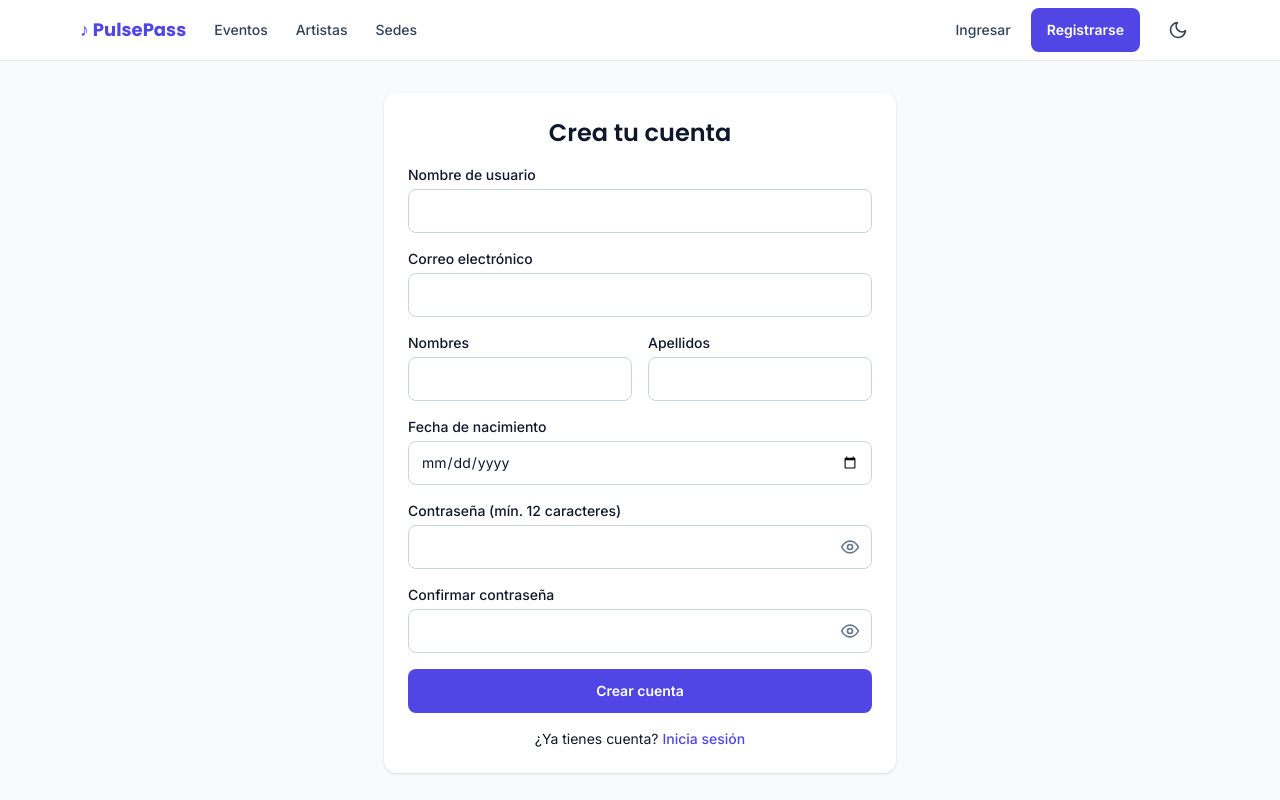
Scenario: Autenticación › TEST-FE-AUTH-004: registro con contraseña corta → error y 0 peticiones
expect the heading "Crea tu cuenta" is shown: met, box x1=549 y1=116 x2=731 y2=149
In the field labelled "Nombre de usuario": (640, 211) x1=408 y1=189 x2=872 y2=233, type "nuevo.usuario"
In the field labelled "Correo electrónico": (640, 295) x1=408 y1=273 x2=872 y2=317, type "nuevo@pulsepass.test"
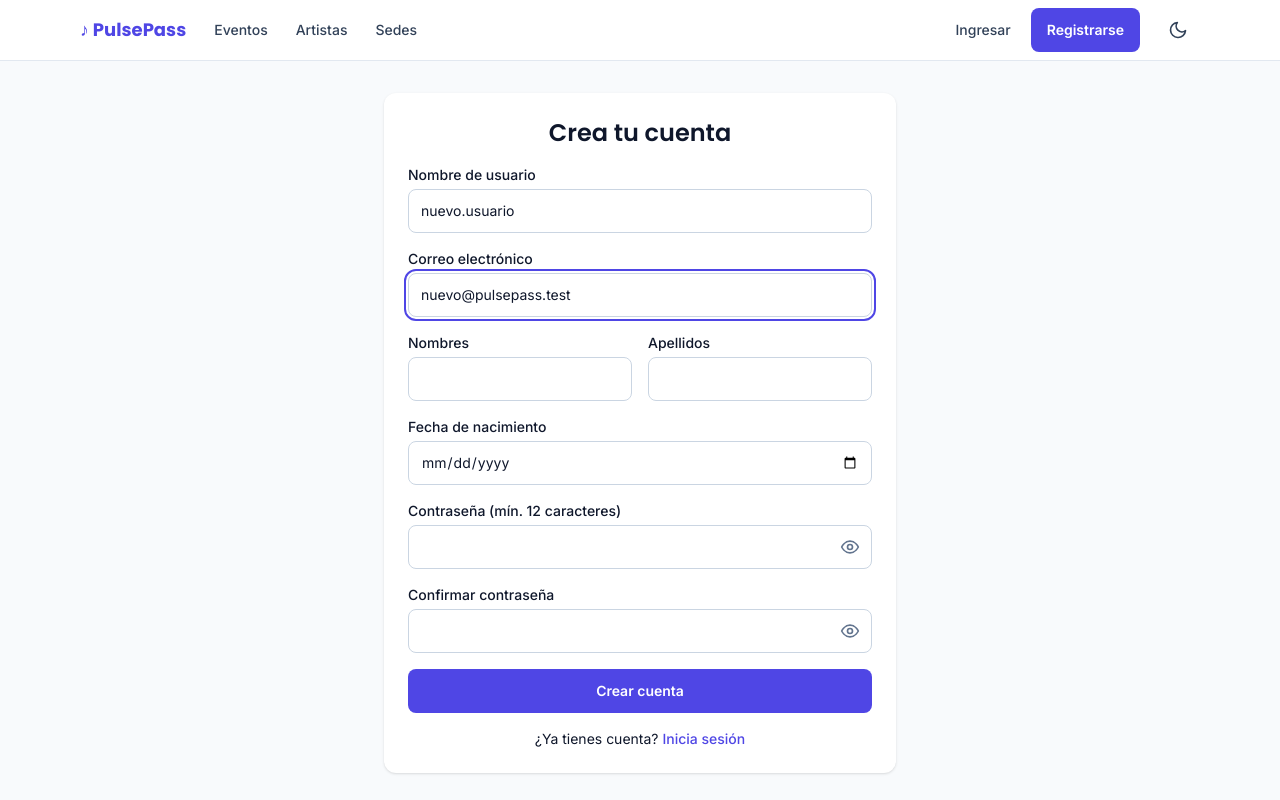
In the field labelled "Nombres": (520, 379) x1=408 y1=357 x2=632 y2=401, type "Nuevo"
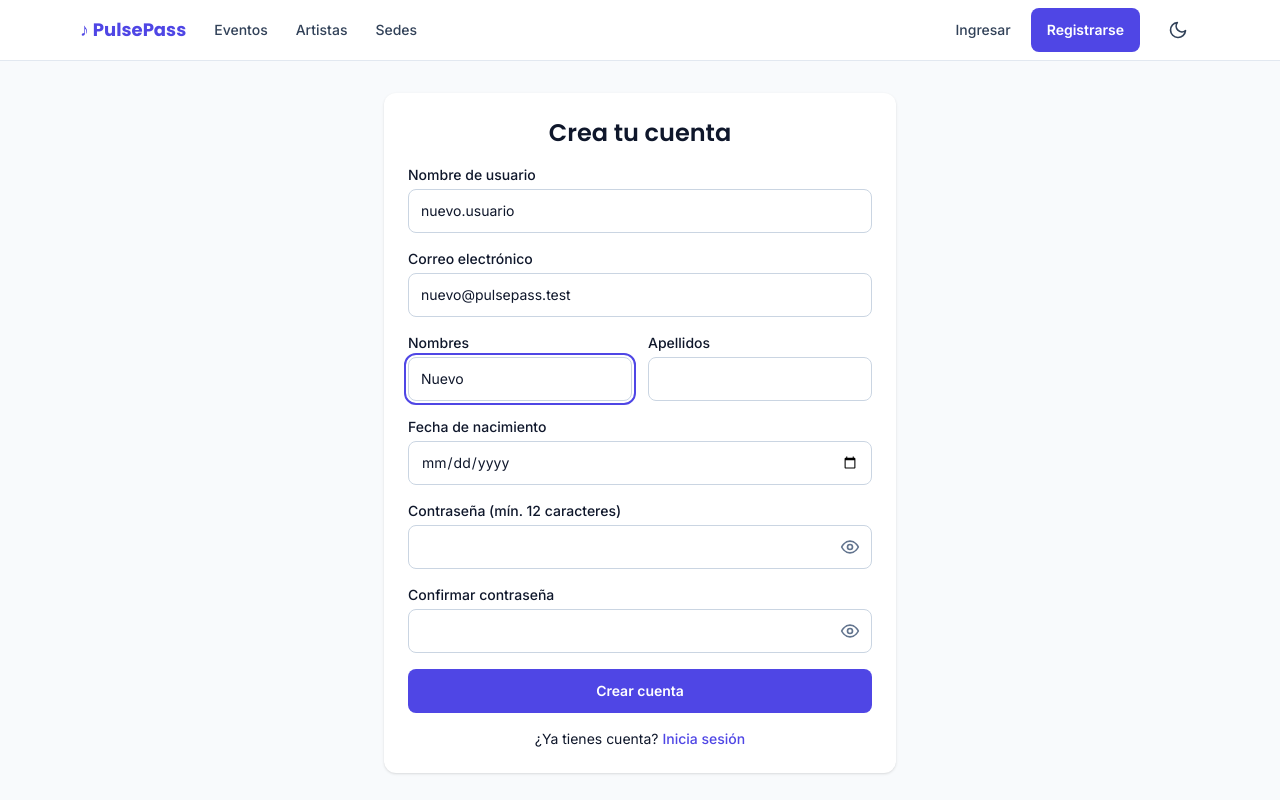
In the field labelled "Apellidos": (760, 379) x1=648 y1=357 x2=872 y2=401, type "Usuario"
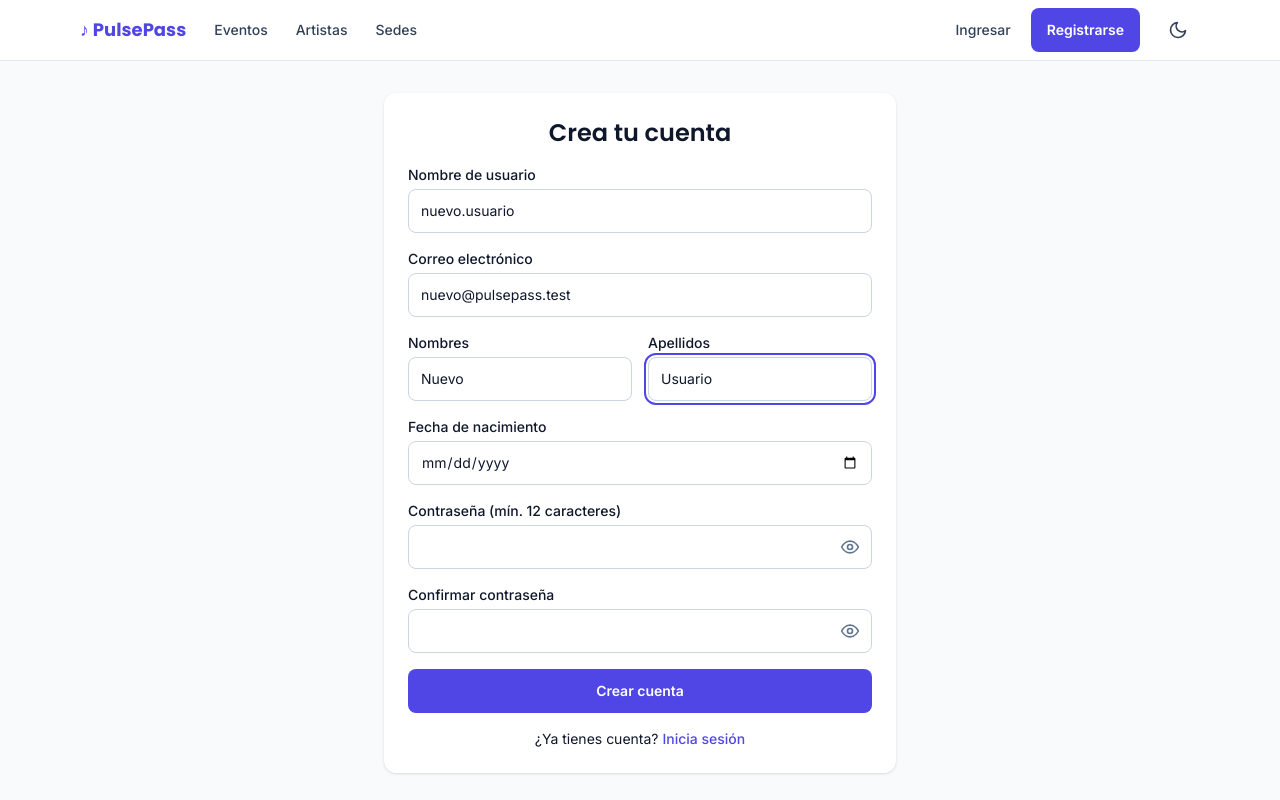
In the date field labelled "Fecha de nacimiento": (640, 463) x1=408 y1=441 x2=872 y2=485, type "1998-04-12"
In the password field labelled "Contraseña (mín. 12 caracteres)": (640, 547) x1=408 y1=525 x2=872 y2=569, type "corta123"
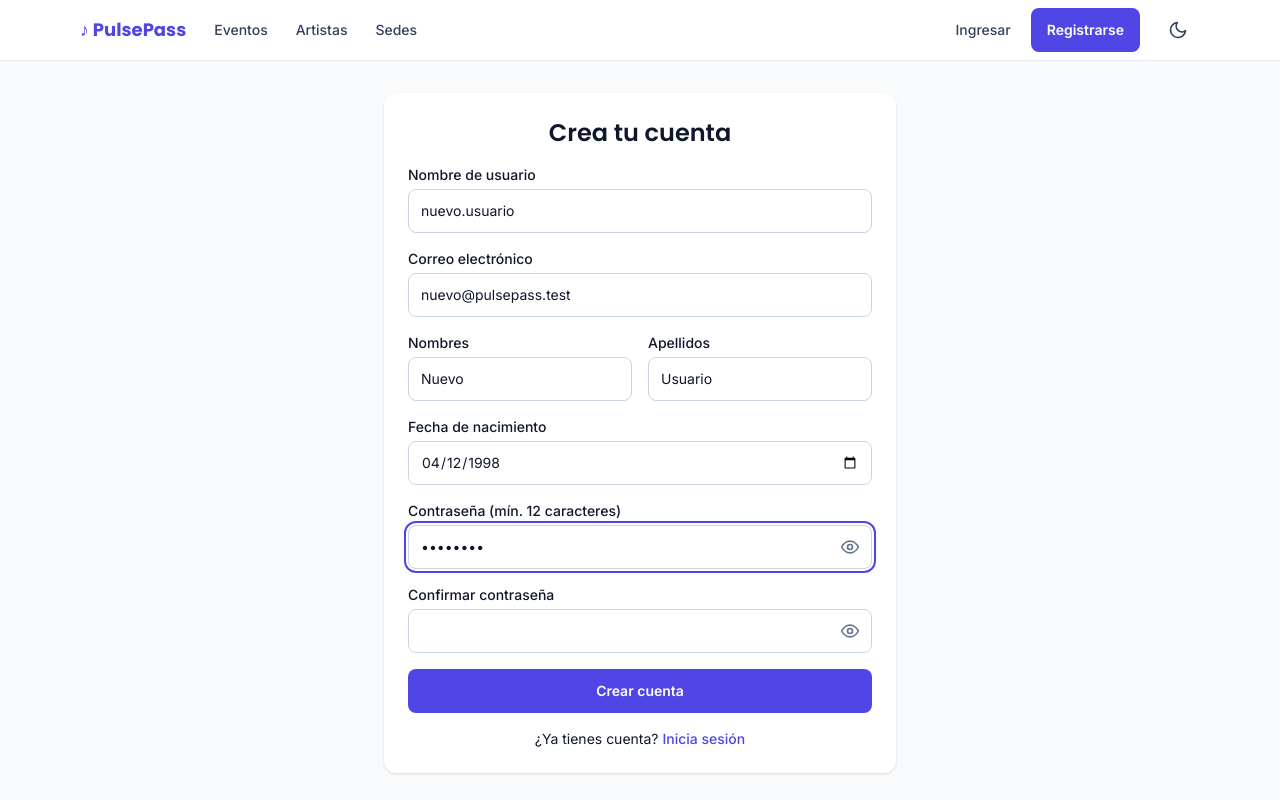
In the password field labelled "Confirmar contraseña": (640, 631) x1=408 y1=609 x2=872 y2=653, type "corta123"
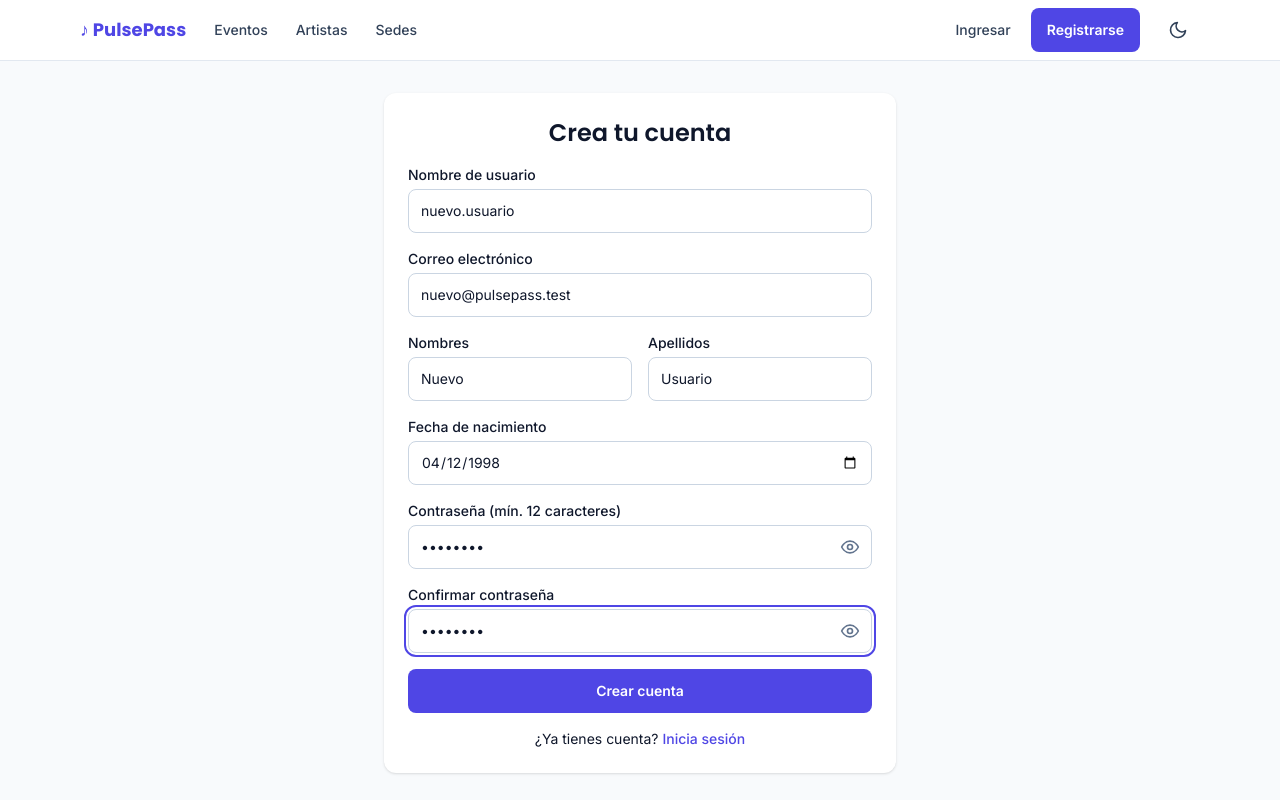
Click the button "Crear cuenta": (640, 691) x1=408 y1=669 x2=872 y2=713
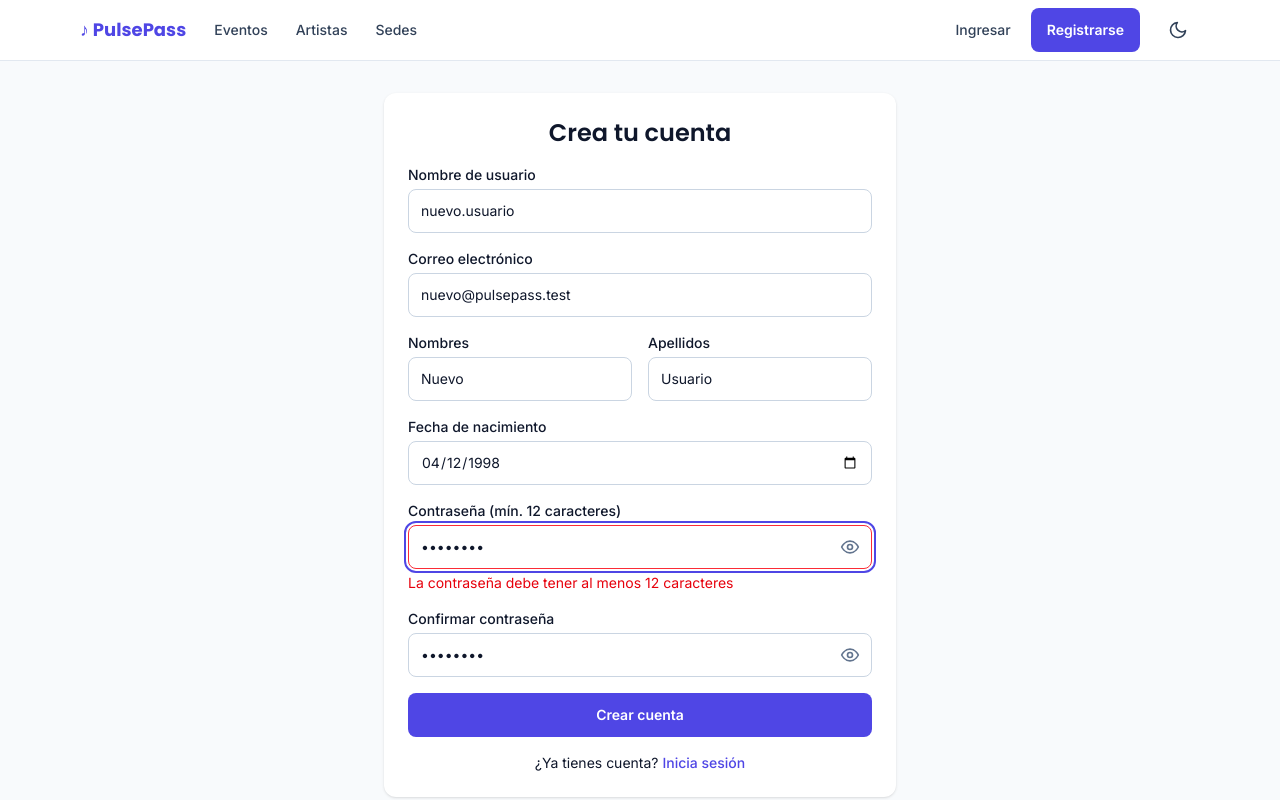
expect the text "La contraseña debe tener al menos 12 caracteres" is shown: met, box x1=408 y1=574 x2=734 y2=591
